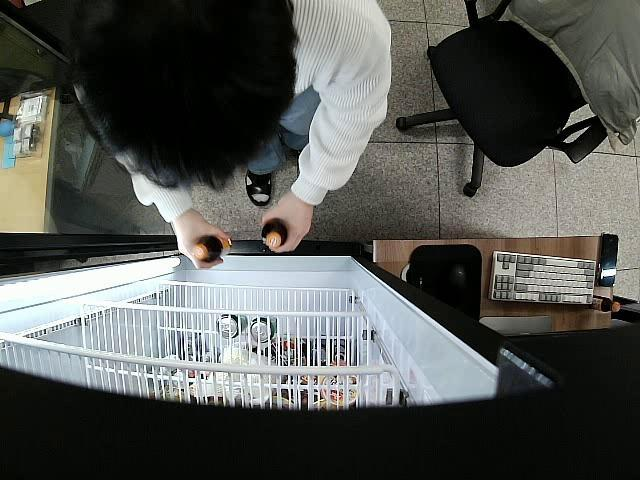17_vita500: (192, 235, 230, 262), (263, 220, 288, 250)
